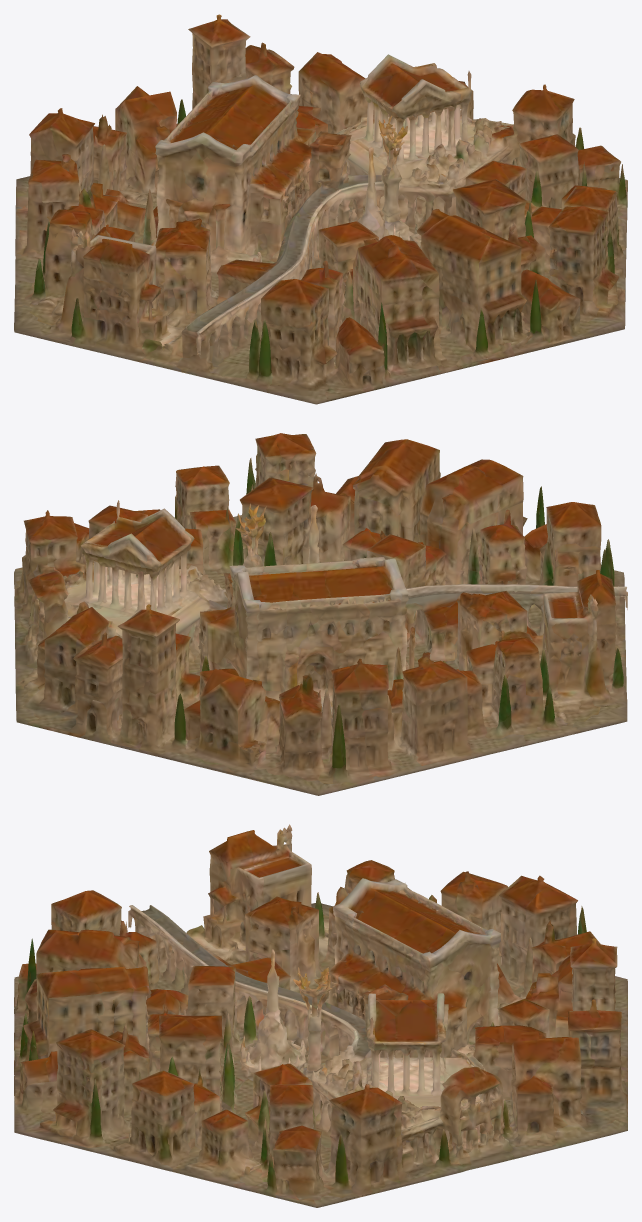
Rendered from rome-l4.glb.
The picture shows the model from 3 angles, top to bottom: view 1: azimuth 30°, elevation 25°; view 2: azimuth 150°, elevation 25°; view 3: azimuth 270°, elevation 25°; orthographic projection.
Size of the model in its own units: 1.9 by 0.3976 by 1.63.
Materials: 1 (1 with a texture image).
